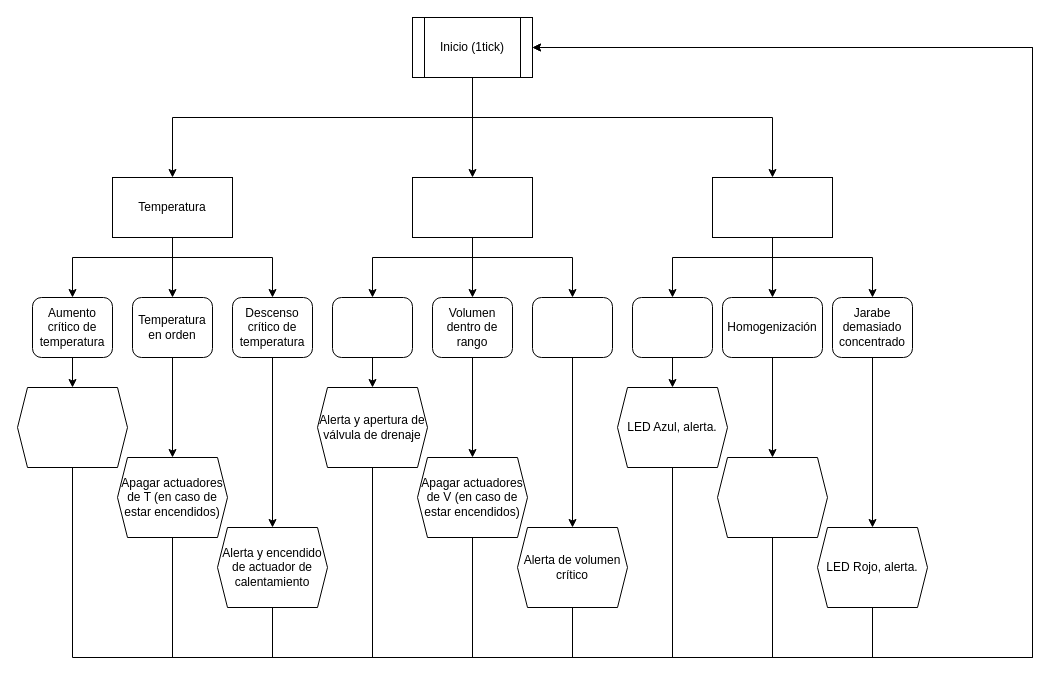
Image size: 1058x683. Some labels were removed from this diagram. Here are the shapes that lost their labels. From the top down, the centre of each, then its label:
the point at 472,207: Volumen
the point at 772,207: Viscosidad
the point at 372,327: Tanque sobrellenado
the point at 572,327: Tanque demasiado vacío
the point at 672,327: Baja concentración
the point at 72,427: Alerta y activación de sistema de enfriamiento
the point at 772,497: LED Verde, todo bien.
